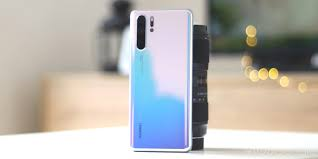huawei: (125, 7, 190, 153)
